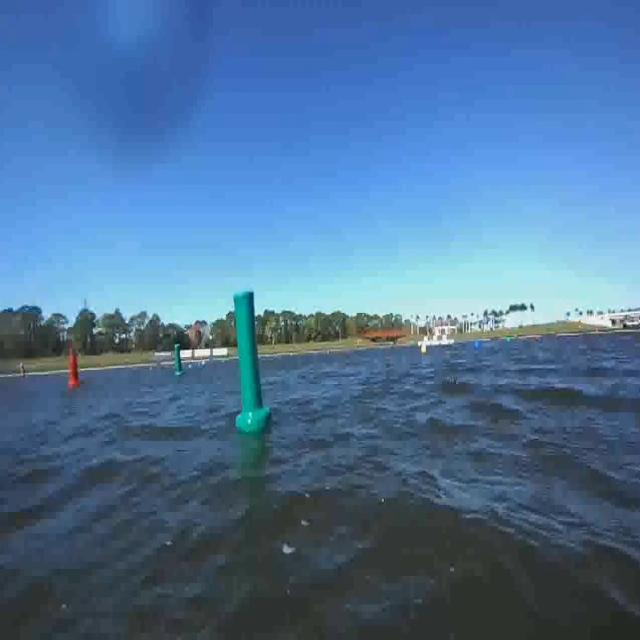blue-buoy: (473, 339, 481, 353)
green-column-buoy: (232, 280, 270, 432), (175, 343, 188, 377)
red-column-buoy: (69, 348, 81, 387)
yellow-buoy: (420, 344, 428, 358)
